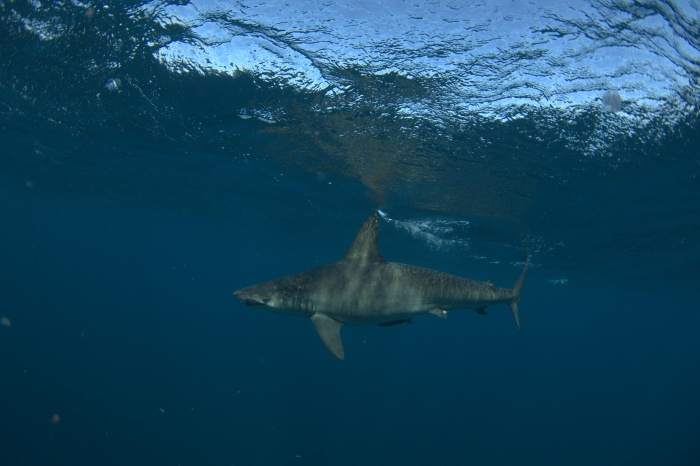Hammer: (223, 205, 546, 368)
